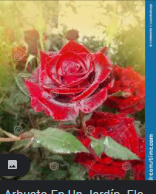RedRose: (29, 41, 118, 124)
